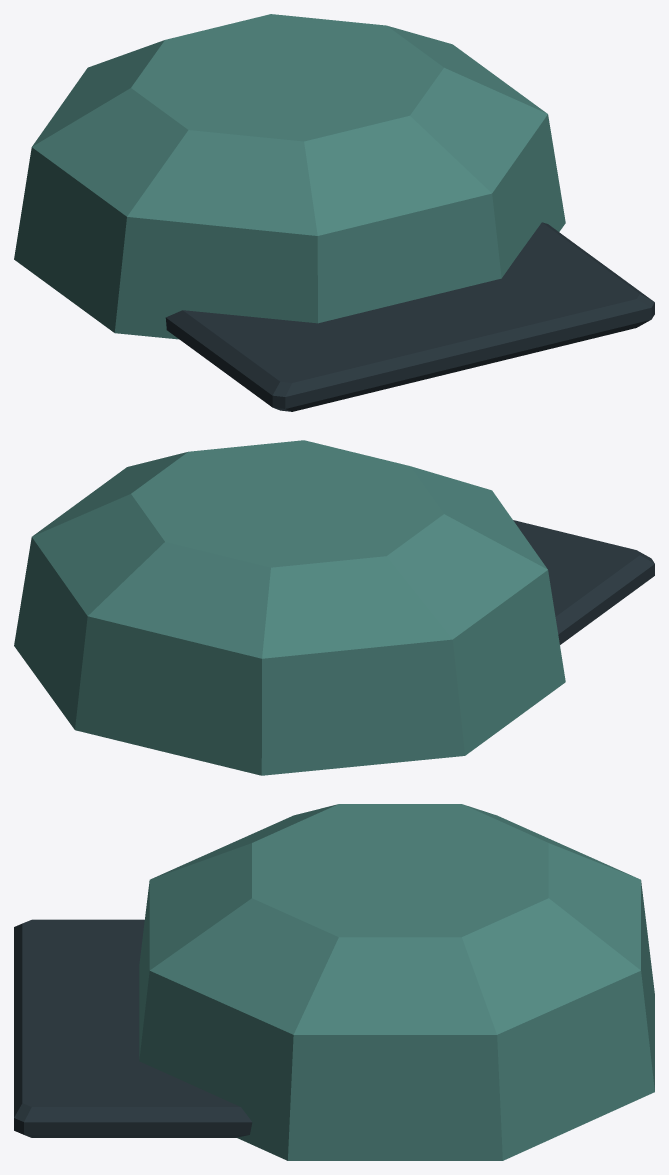
File: SM_NPC_HEADGEAR_000_PatrolCap.glb
3 renders of one model, top to bottom at view 1: azimuth 30°, elevation 25°; view 2: azimuth 150°, elevation 25°; view 3: azimuth 270°, elevation 25°, orthographic. The views are drawn at different scales.
Parts seen in each view (by area): view 1: SM_NPC_HEADGEAR_000_PatrolCap; view 2: SM_NPC_HEADGEAR_000_PatrolCap; view 3: SM_NPC_HEADGEAR_000_PatrolCap.
Boxes of the visible parts, bbox=[...] form: SM_NPC_HEADGEAR_000_PatrolCap: bbox=[14, 14, 654, 411]; SM_NPC_HEADGEAR_000_PatrolCap: bbox=[14, 440, 654, 775]; SM_NPC_HEADGEAR_000_PatrolCap: bbox=[14, 804, 654, 1160].
Size of the model in its own units: 0.5543 by 0.191 by 0.6387.
